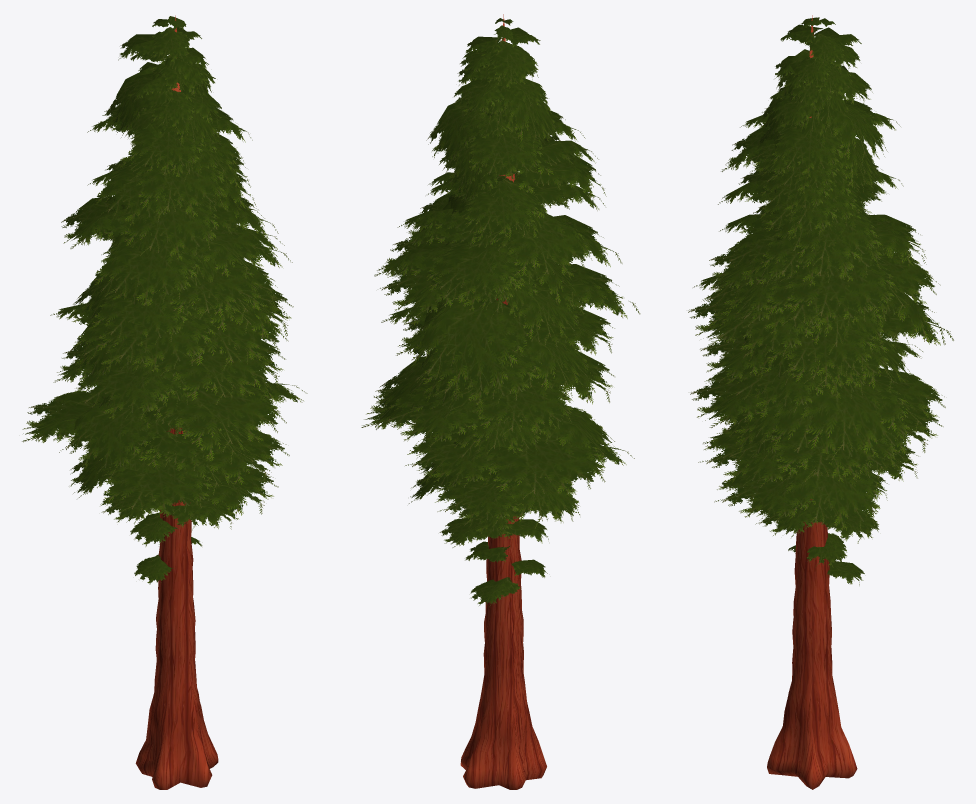
Rendered from sq-med-3.glb.
3 renders of one model, left to right at view 1: azimuth 30°, elevation 25°; view 2: azimuth 150°, elevation 25°; view 3: azimuth 270°, elevation 25°, orthographic.
Parts seen in each view (by area): view 1: sq-med-3; view 2: sq-med-3; view 3: sq-med-3.
Boxes of the visible parts, x1,y1,x2,y2 form: sq-med-3: [22, 15, 307, 789]; sq-med-3: [361, 14, 640, 789]; sq-med-3: [688, 15, 953, 789].
Size of the model in its own units: 11.72 by 30.89 by 10.53.
2 materials, 2 textured.
